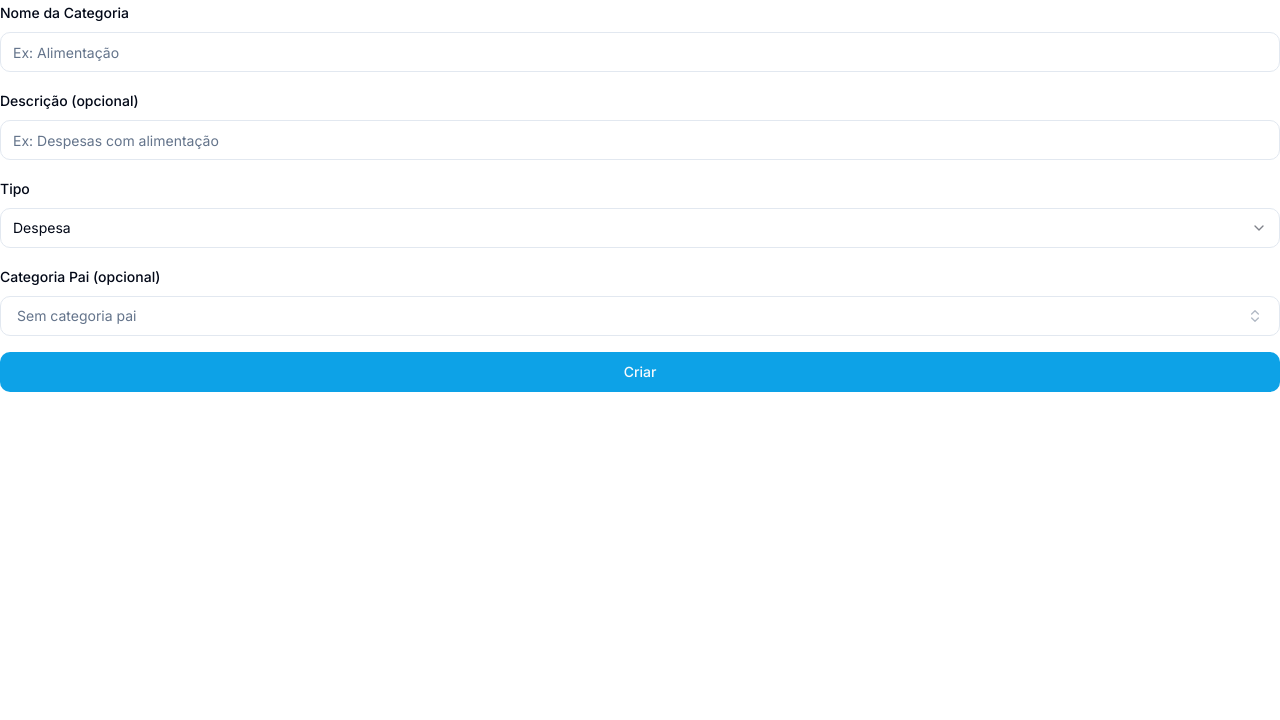
Test: CategoryForm › deve filtrar categorias pela busca
The width and height of the screenshot is (1280, 720).
Click the dropdown named "selecionar categoria pai" at (77, 316), box [0,296,1279,336]
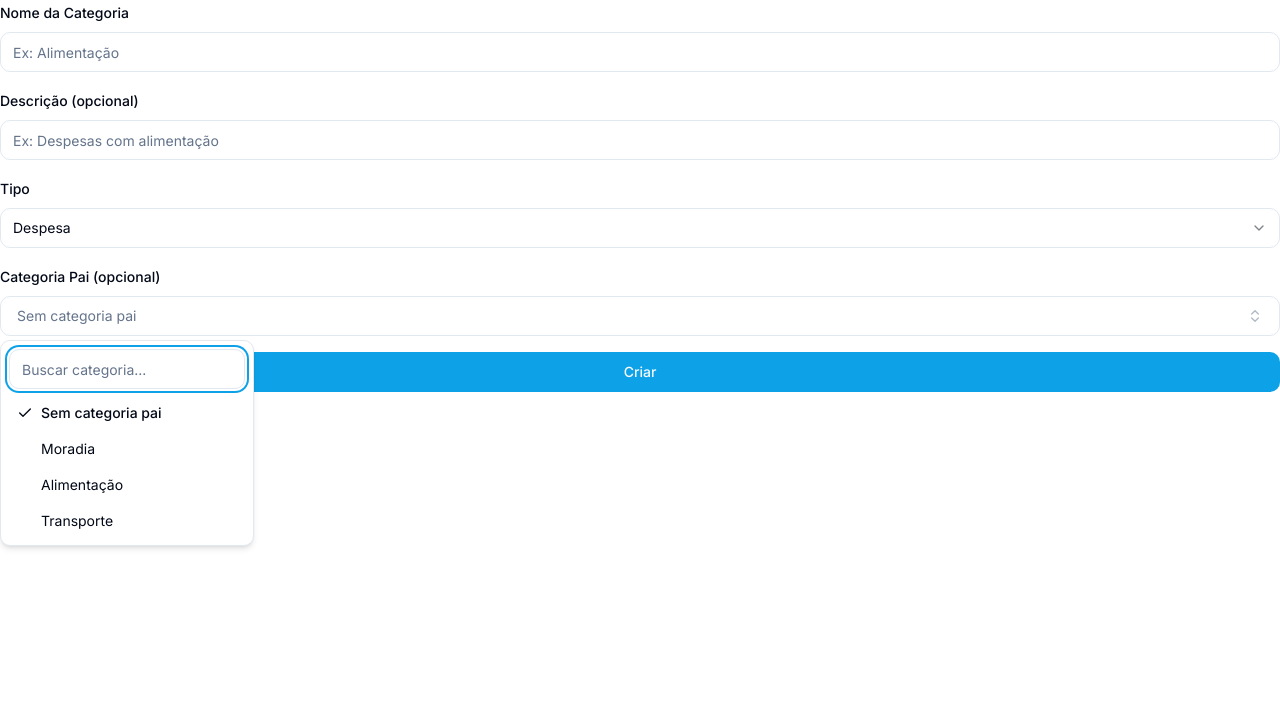
Type "mora" into the field with placeholder "Buscar categoria..." at (127, 369), box [9,349,245,389]
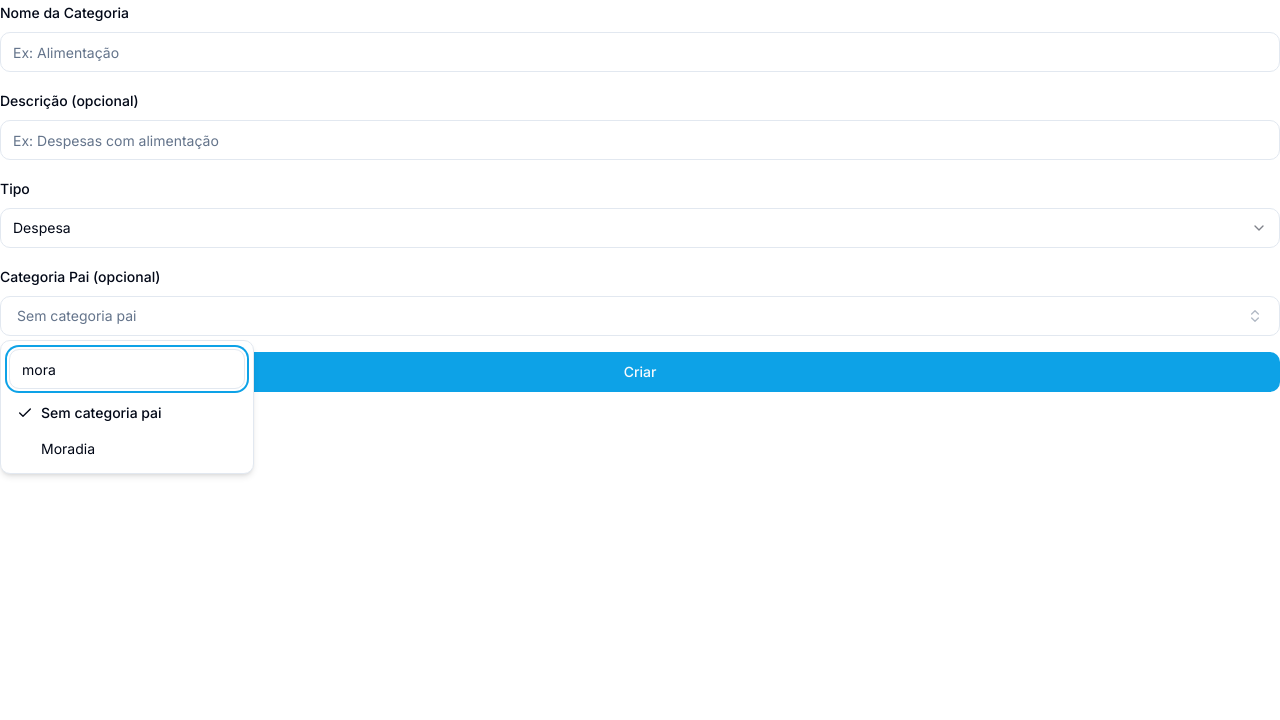
expect the button "Moradia" is shown: met, box [9,433,245,465]
expect the button "Transporte" is gone: met
